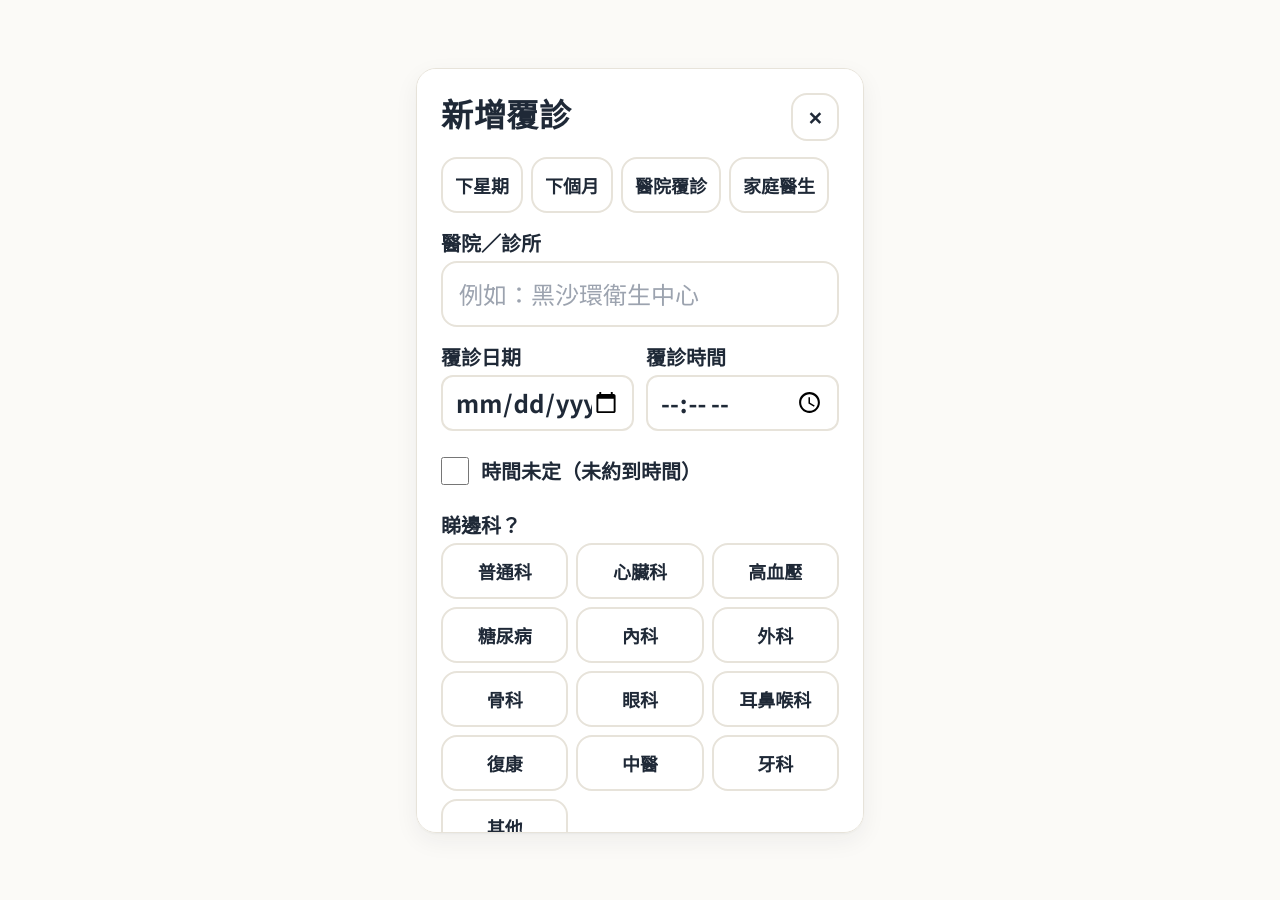
AppointmentModal › 地點候選包含歷史地點與資源目錄（去重）
The image size is (1280, 900).
Focus the dropdown with test id "appt-location-input": point(640, 294) [441, 260, 839, 327]
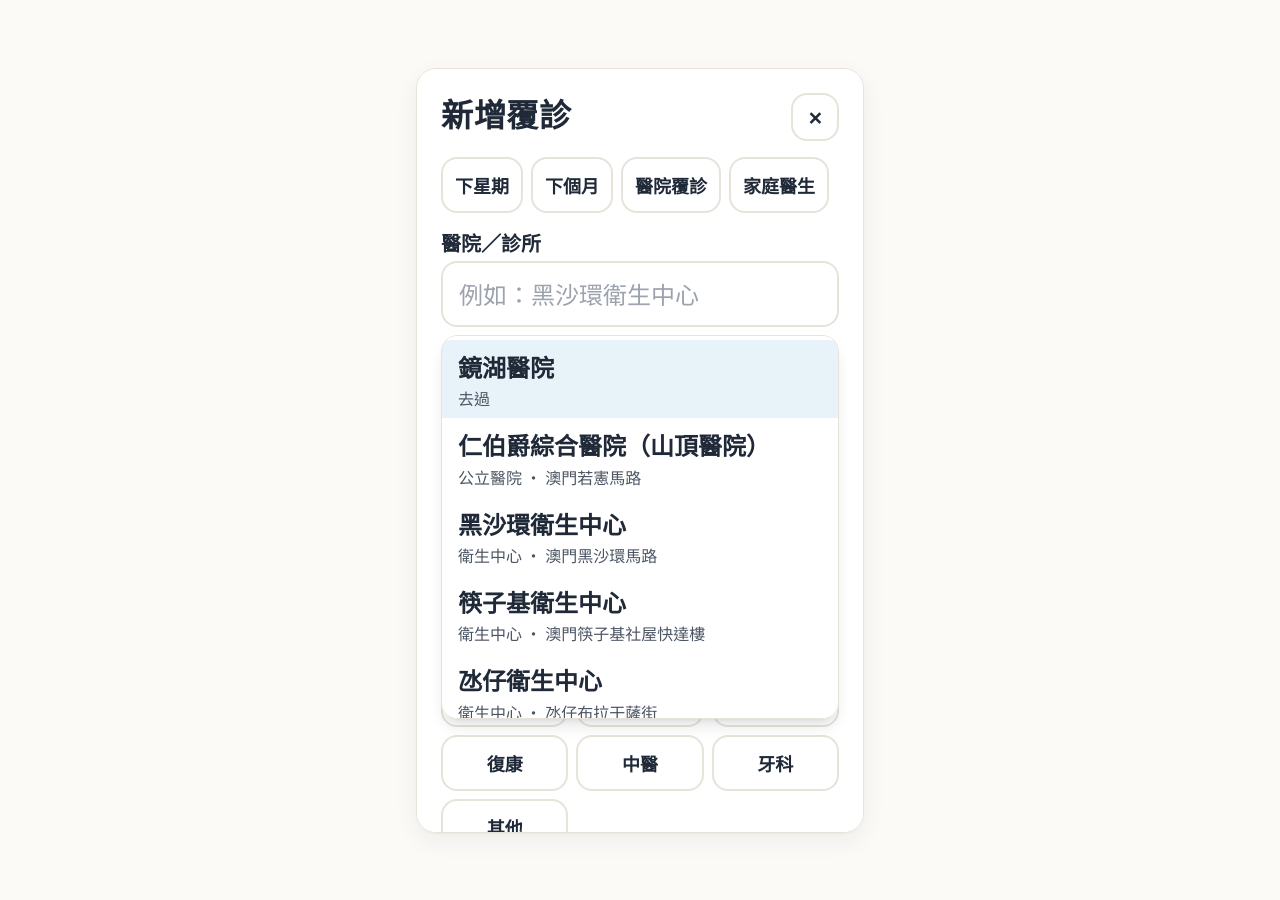
Expected: the text "鏡湖醫院" is shown once, [458, 349, 554, 384]
Expected: the text "仁伯爵綜合醫院（山頂醫院）" is shown, [458, 426, 822, 465]
